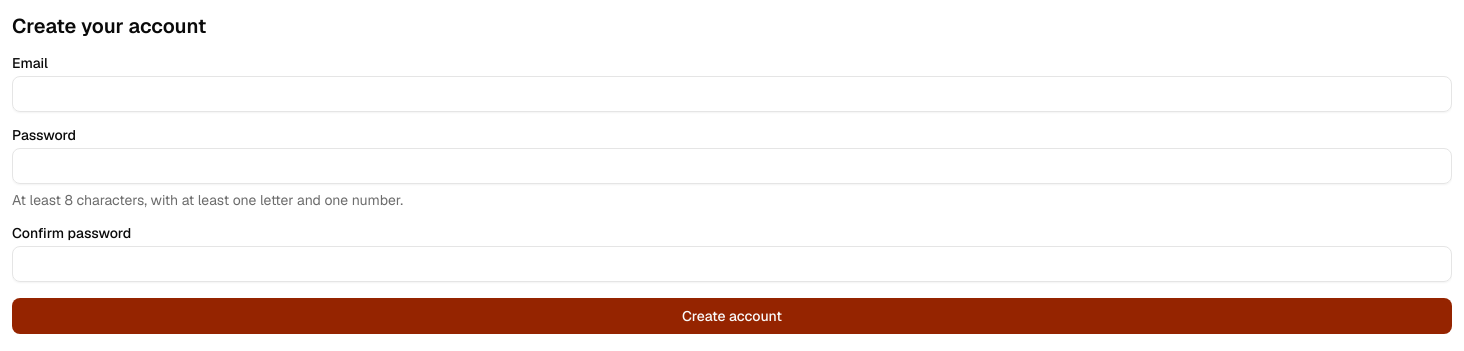
RegisterForm › shows the identical check-your-email screen when Supabase reports a duplicate email by code
The image size is (1464, 351).
Type "existing-user@example.com" into the field labelled "Email" at (732, 94), box [12,76,1452,112]
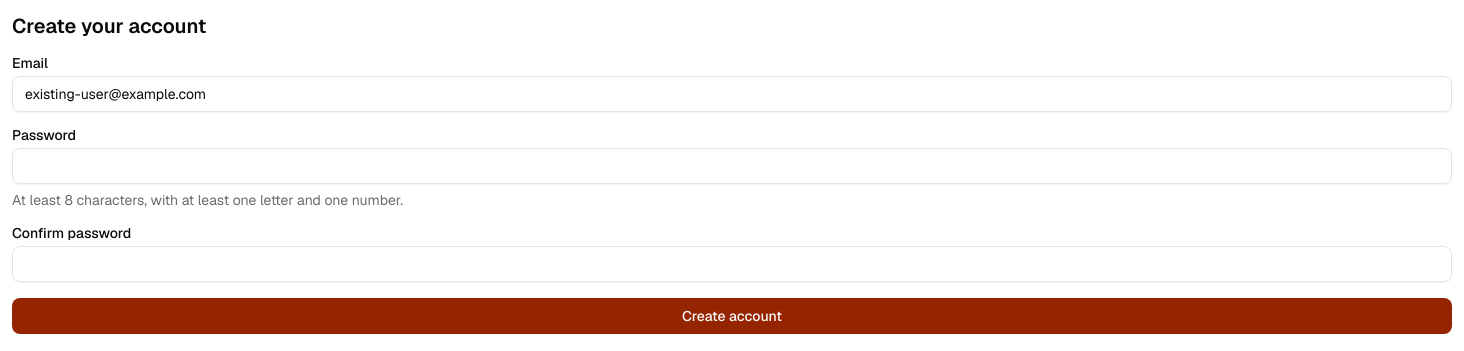
Type "abcd1234" into the password field labelled "Password" at (732, 166), box [12,148,1452,184]
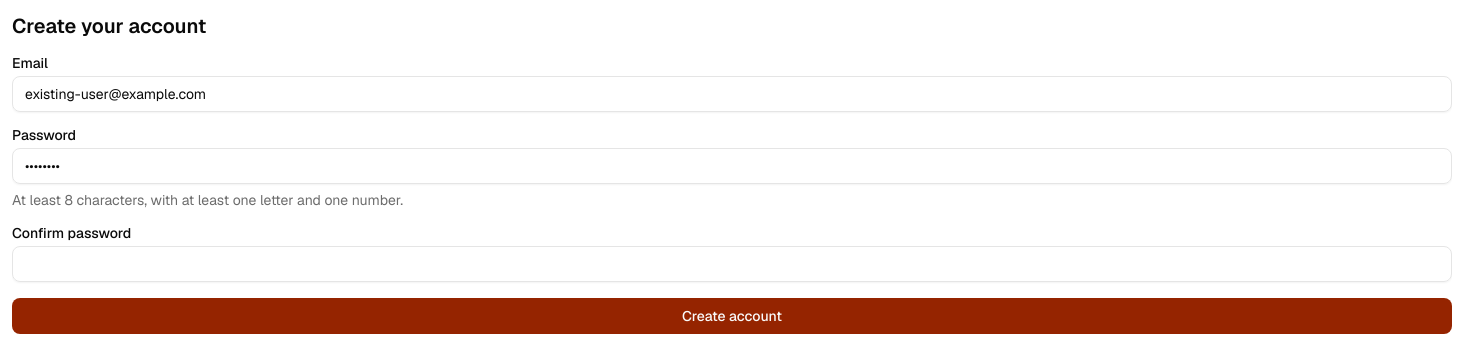
Type "abcd1234" into the password field labelled "Confirm password" at (732, 264), box [12,246,1452,282]
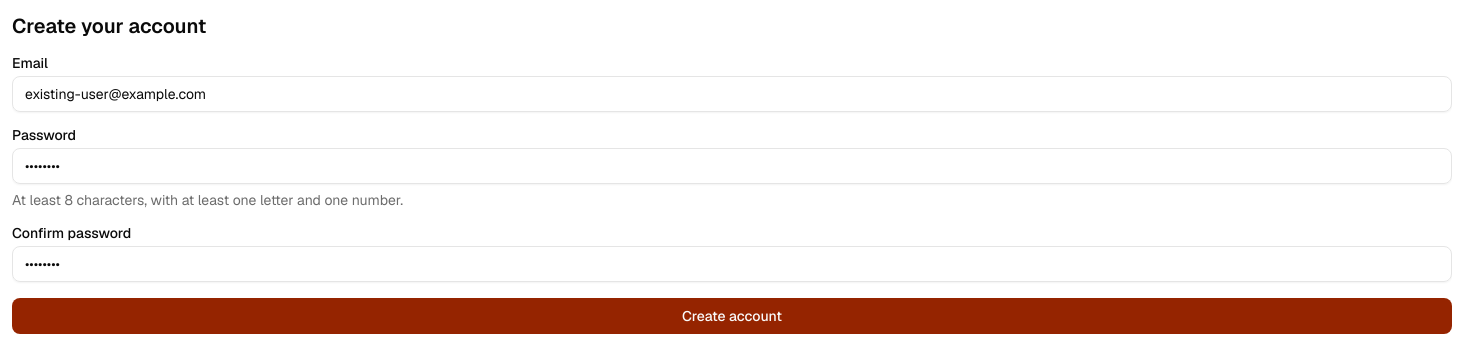
Click the button "Create account" at (732, 316), box [12,298,1452,334]
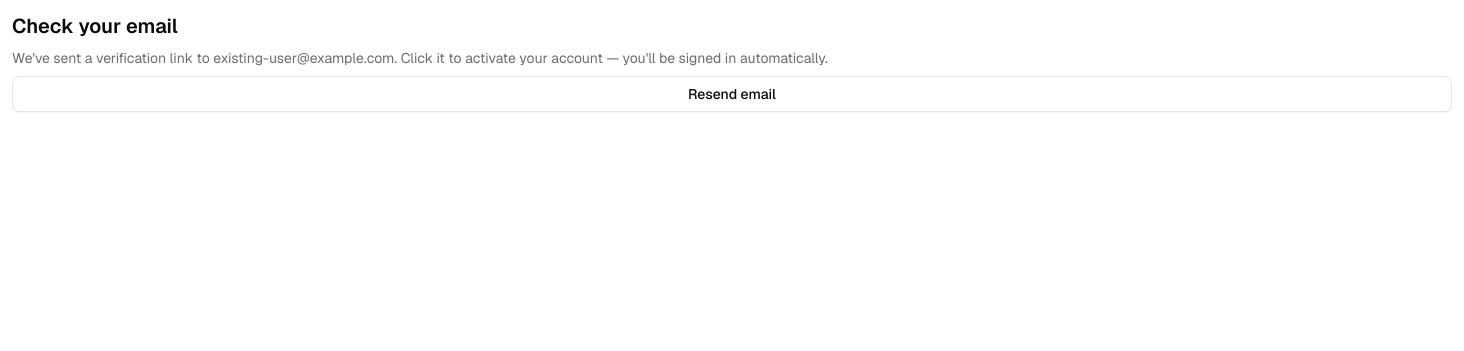
Expected: the heading "Check your email" is shown, [12,13,178,39]
